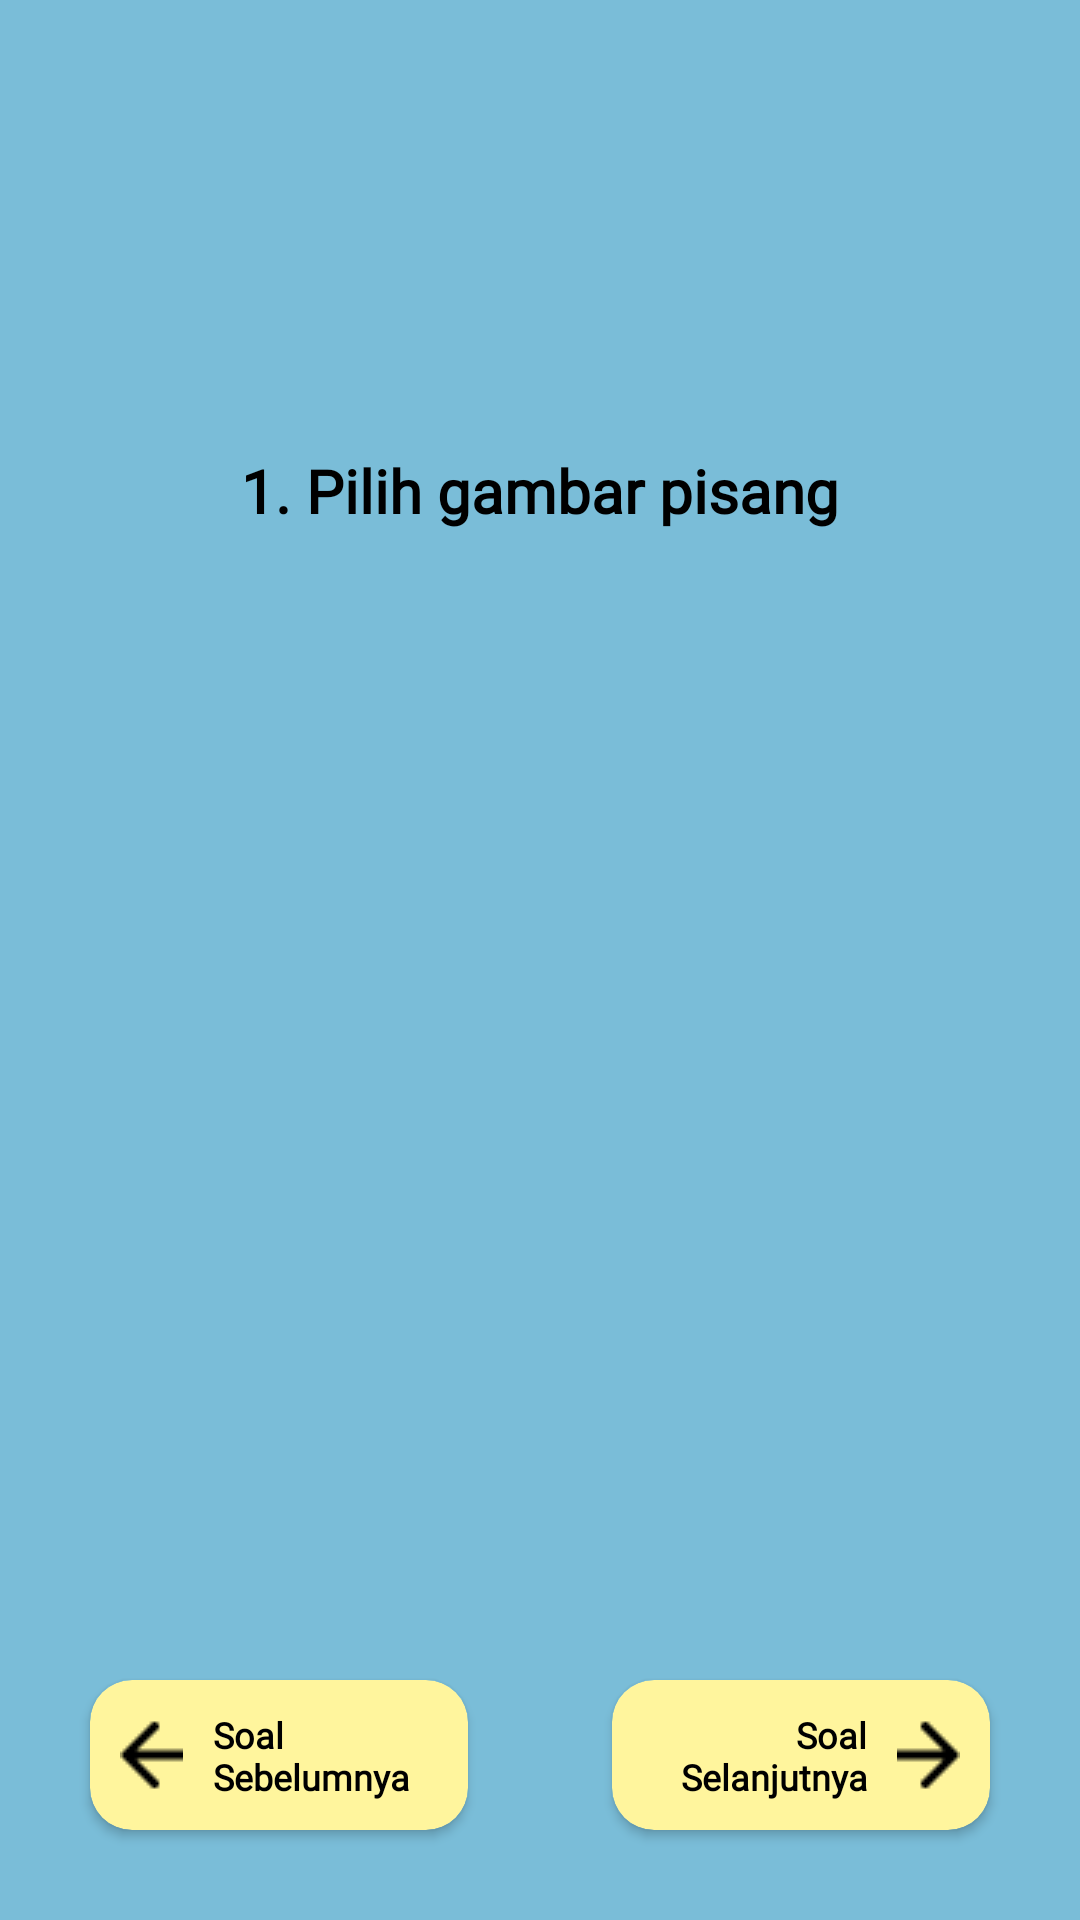

Point at icon controls on the screen. Image size 1080 × 1920, points as (x,y).
arrow: (151,1755), (928,1755)
